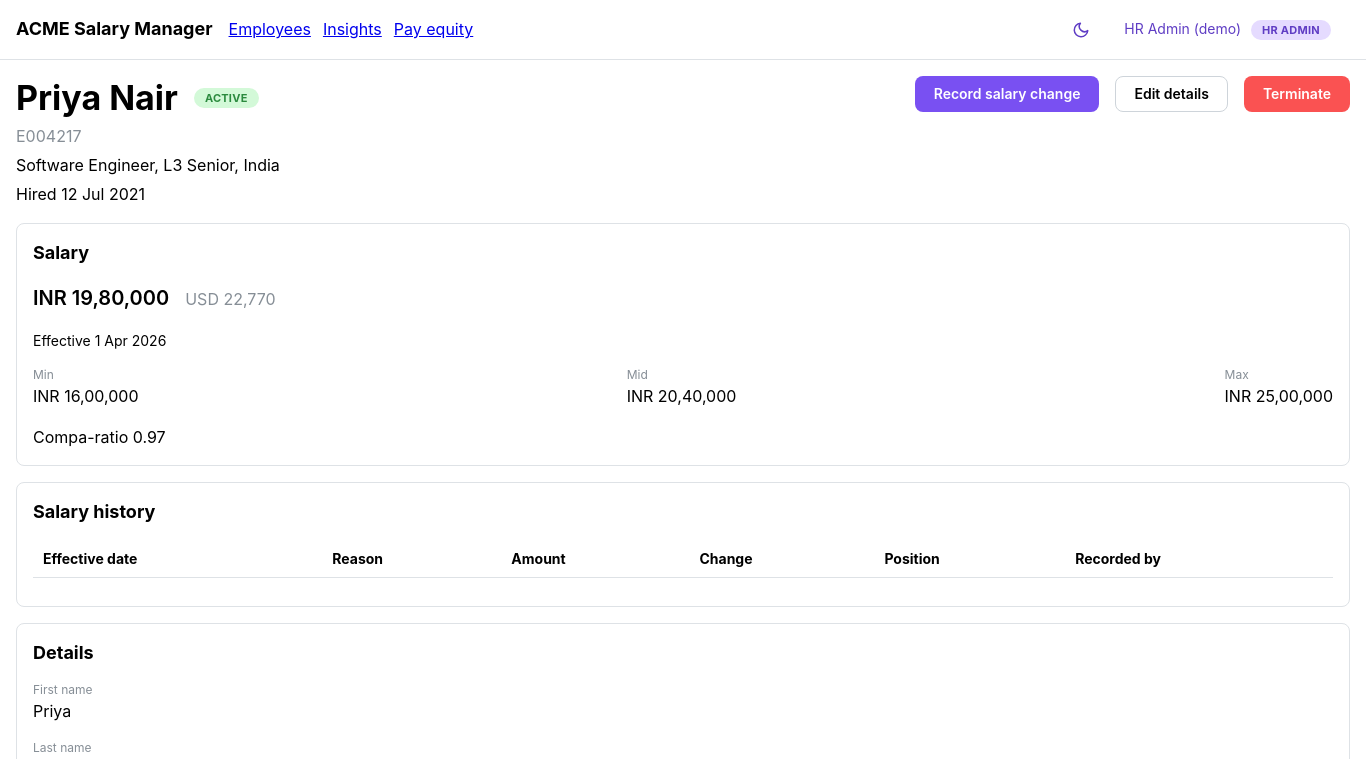
it: edit details modal (04 section 8.5 S-5) › saving the edit modal updates the page and shows "Details updated."
Click the button "Edit details" at coordinates (1172, 94), box x1=1116 y1=76 x2=1228 y2=112
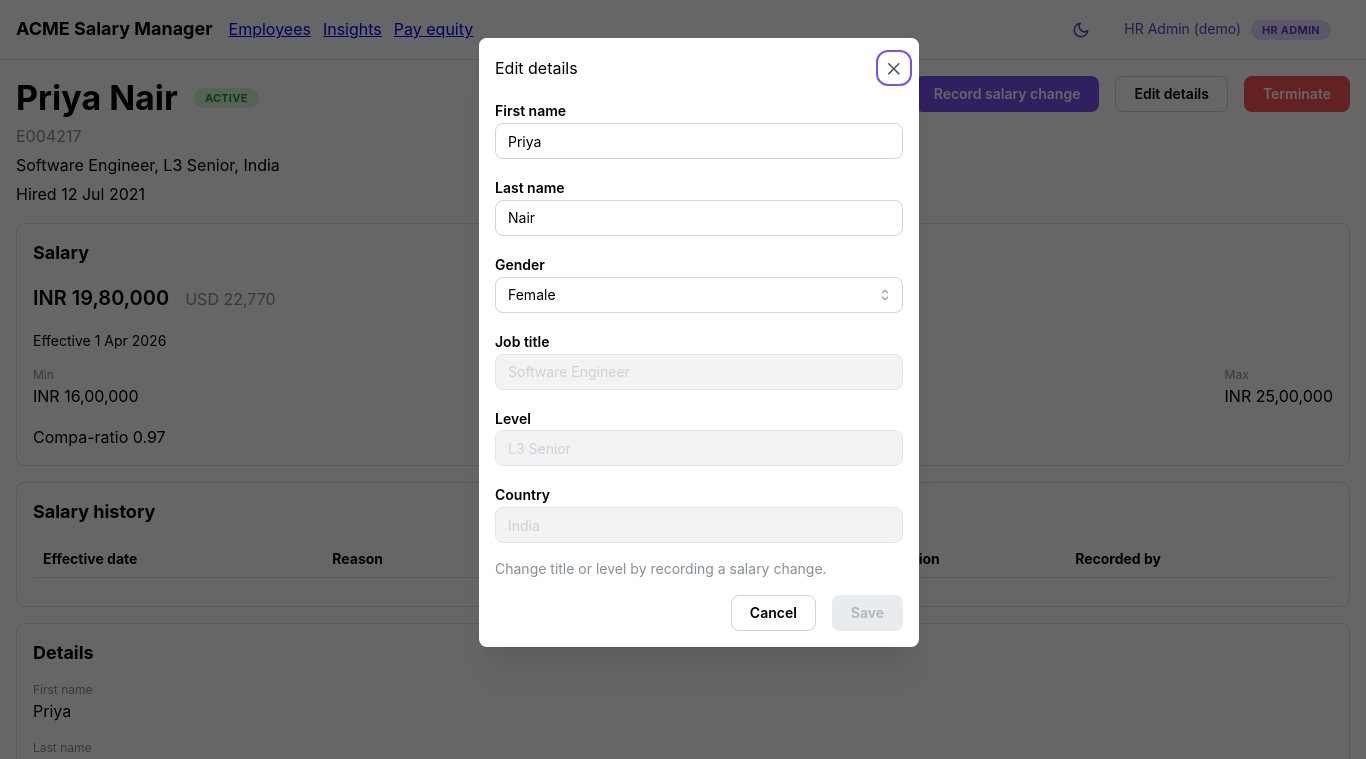
Replace the text in the field labelled "Last name" with "Rao" at coordinates (699, 218), box x1=495 y1=200 x2=903 y2=236
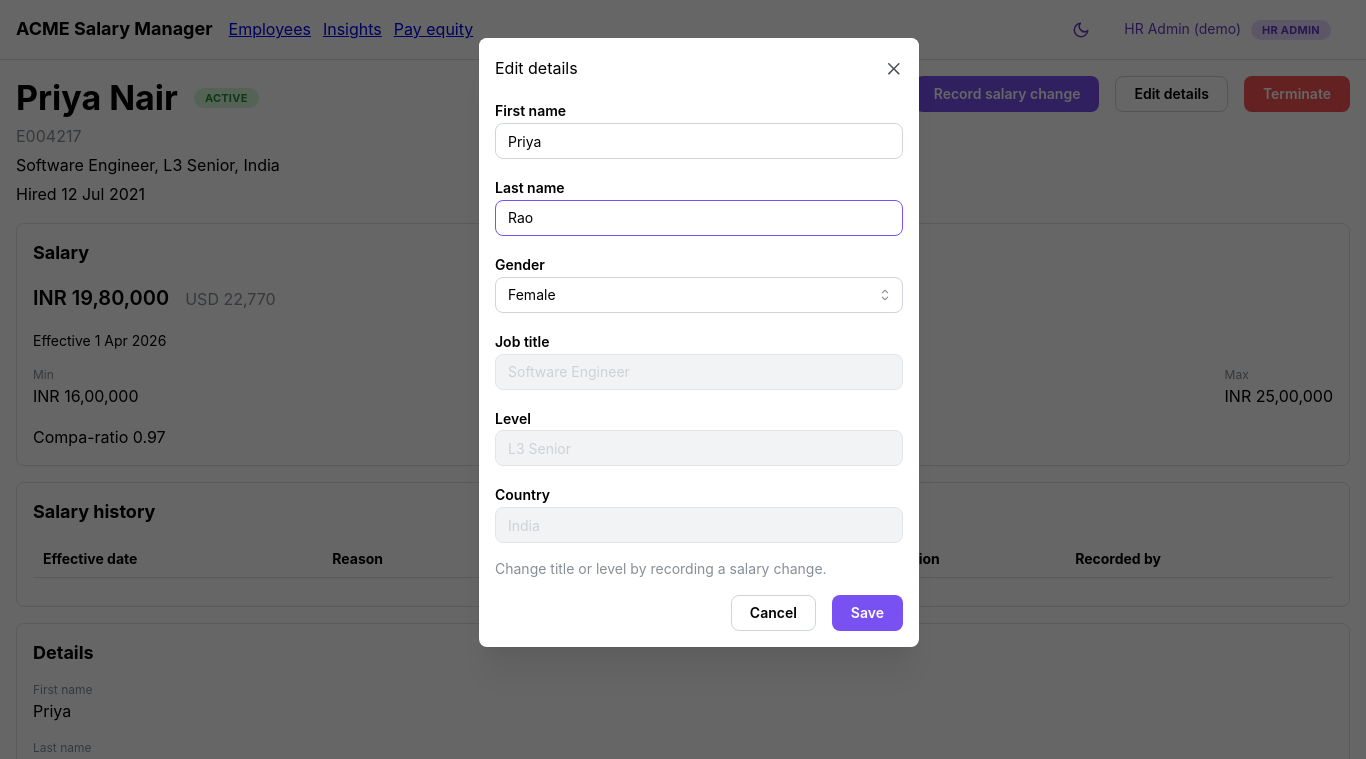
Click the button "Save" at coordinates (867, 614), box x1=832 y1=596 x2=903 y2=632
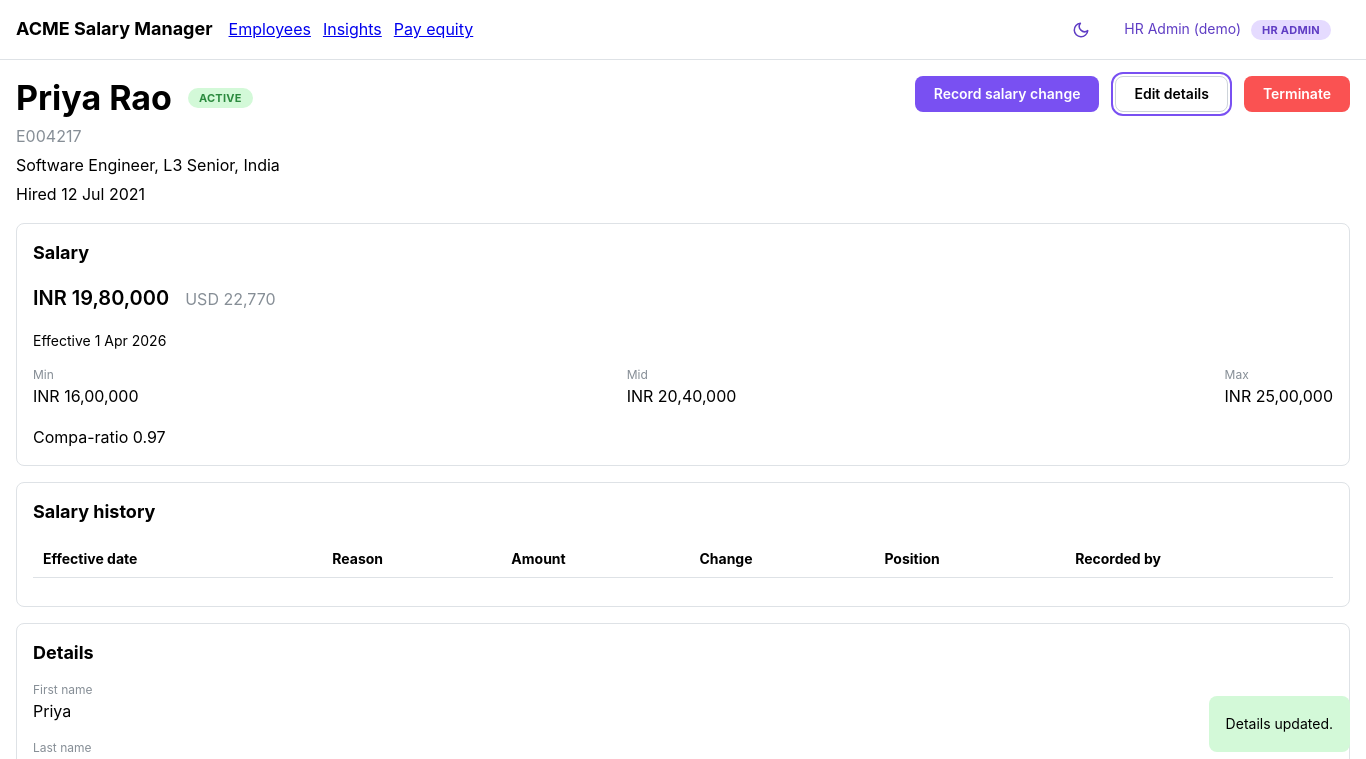
Now the heading "Priya Rao" is shown, box x1=16 y1=76 x2=172 y2=120
Now the text "Details updated." is shown, box x1=1226 y1=713 x2=1333 y2=735
Now the dialog is gone
